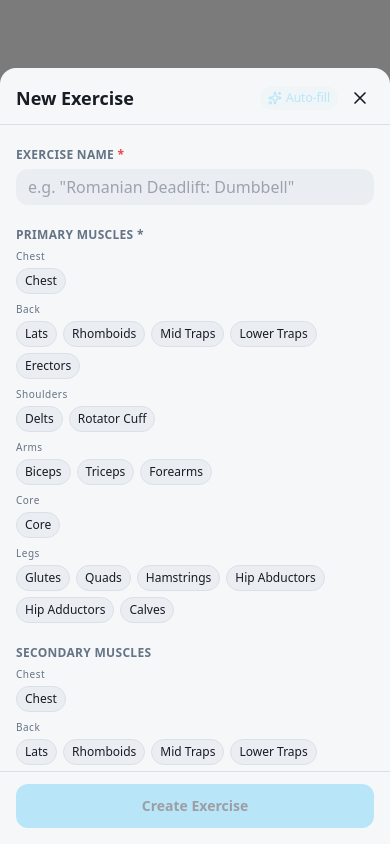
Scenario: CreateExerciseForm — Auto-fill button › Auto-fill is disabled until title AND a primary muscle are set
The width and height of the screenshot is (390, 844).
Expected: the button "Auto-fill" is disabled, [260,86,338,110]
Just typing a title isn't enough.
Type "Romanian Deadlift" into the field with placeholder "e.g. \"Romanian Deadlift: Dumbbell\"" at (195, 186), box [16,168,374,204]
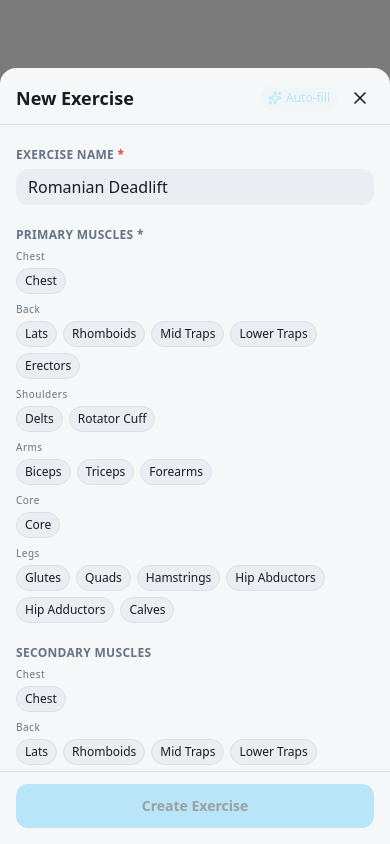
Expected: the button "Auto-fill" is disabled, [260,86,338,110]
Pick a primary muscle to satisfy the second gate.
Click the button "Hamstrings" at (179, 578), box [137,564,220,590]
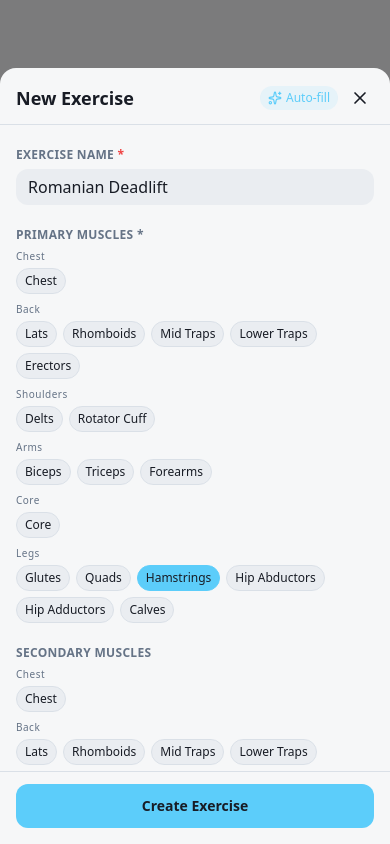
Now the button "Auto-fill" is enabled, box [260,86,338,110]
